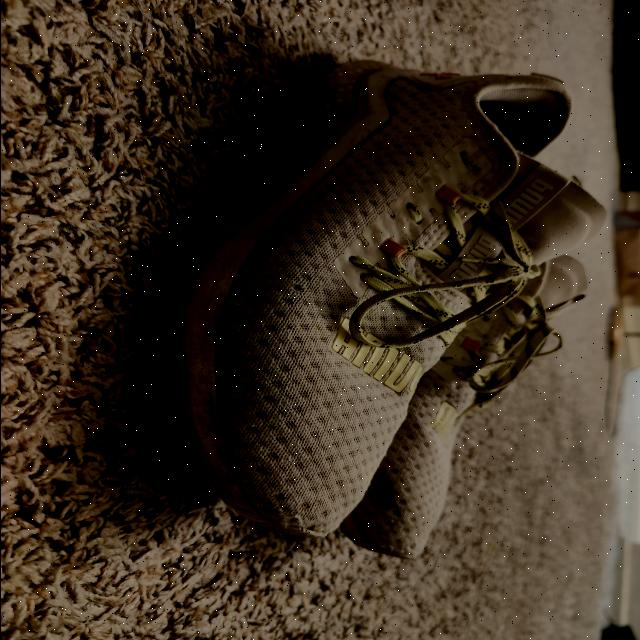white shoes: (166, 60, 588, 558)
